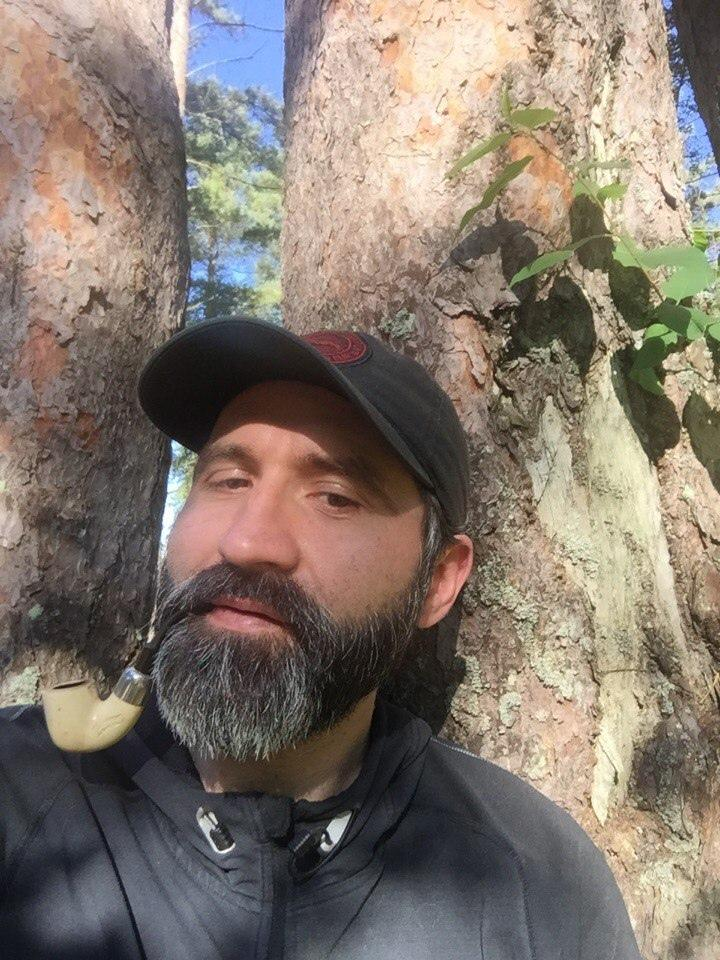trubka: (43, 603, 214, 753)
